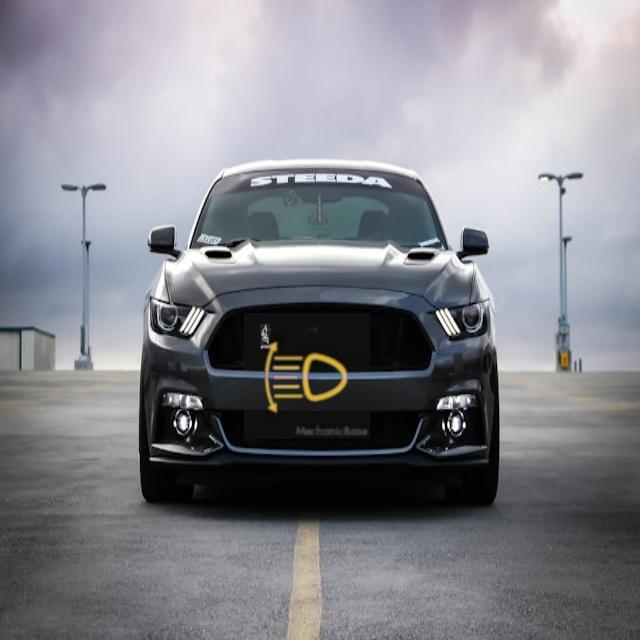symbol: (244, 313, 370, 439)
